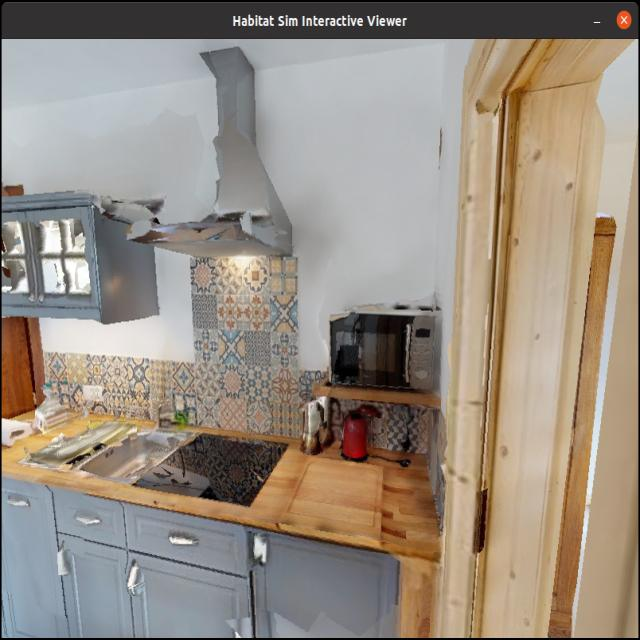door-frame: (446, 30, 639, 640)
sink: (78, 398, 191, 500)
